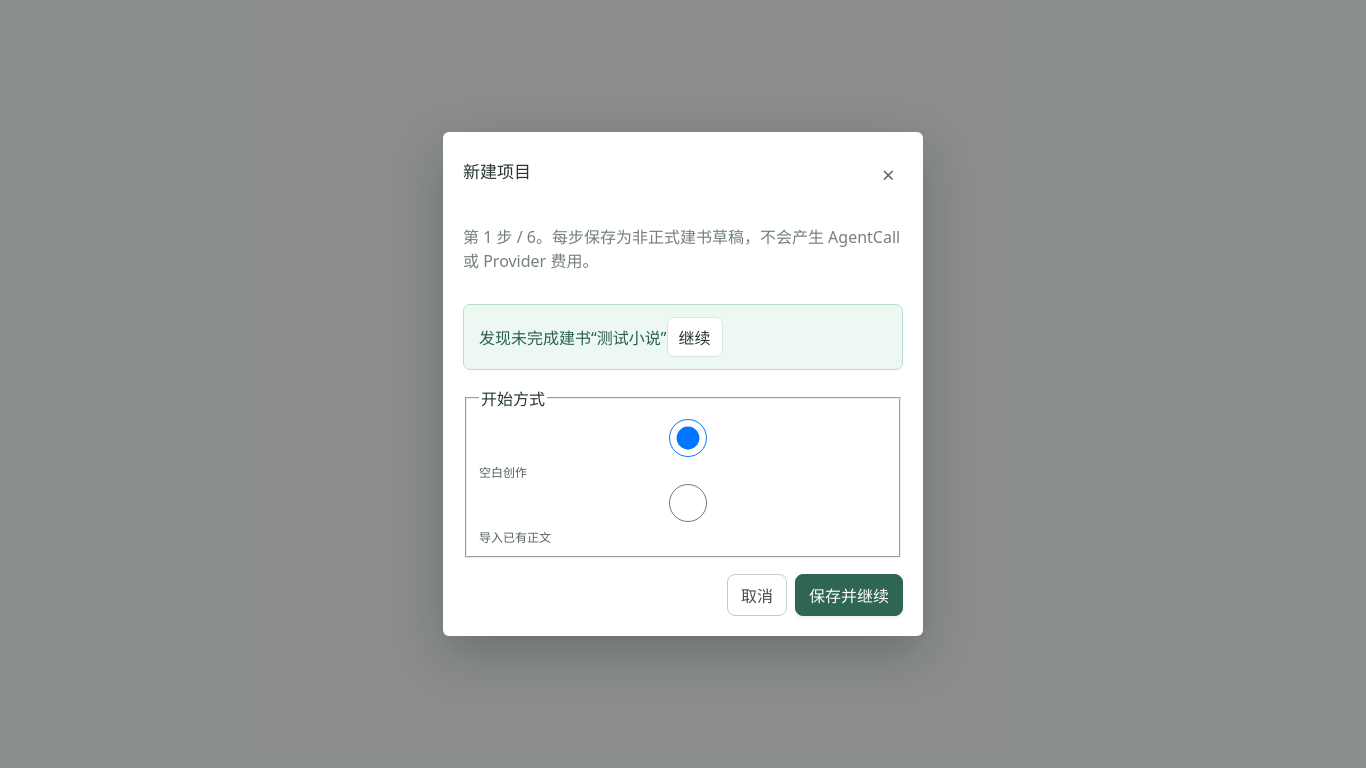
Test case: project setup import › restores a matching server preview from a setup draft
The image size is (1366, 768).
Click the button "继续": (694, 337) [666,317,722,357]
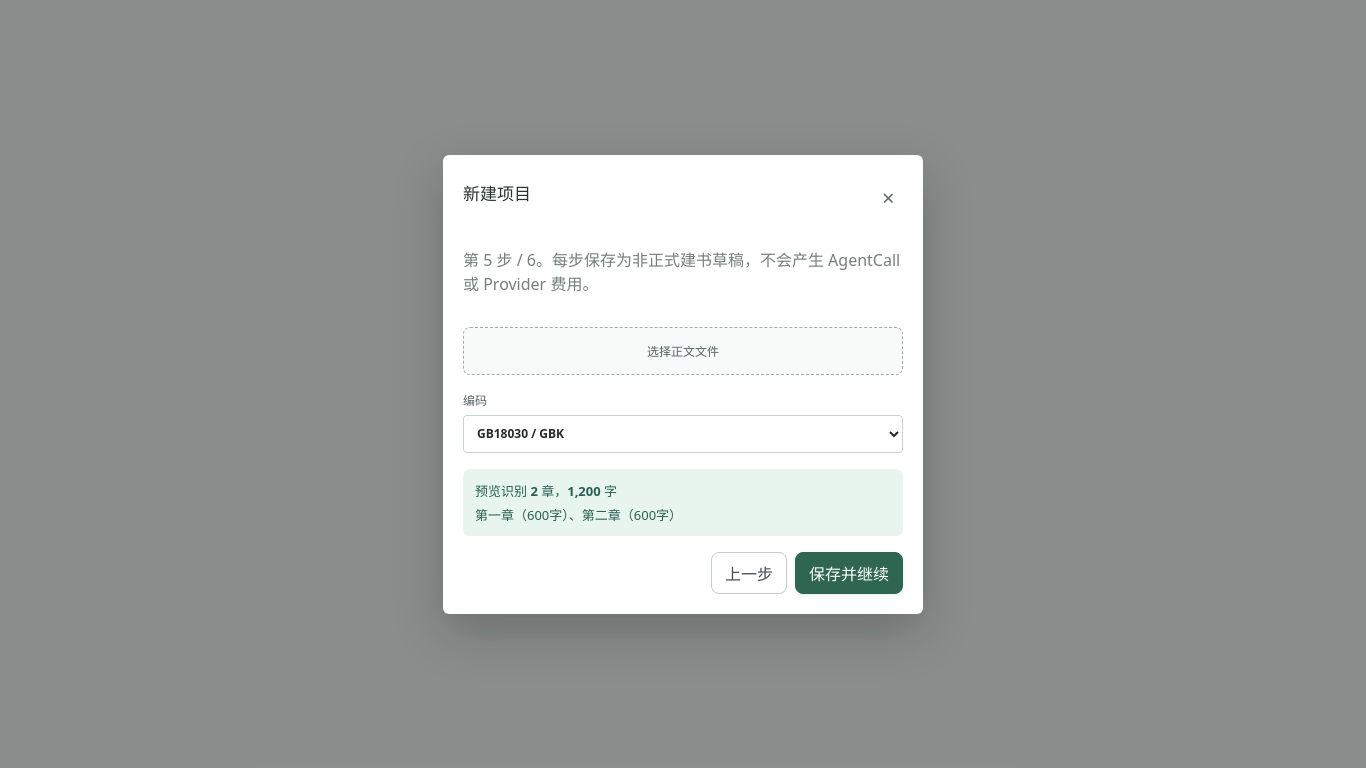
Expected: the button "保存并继续" is enabled, [795,552,903,594]
Expected: the text "预览识别 2 章，1,200 字" is shown, [475,482,617,500]
